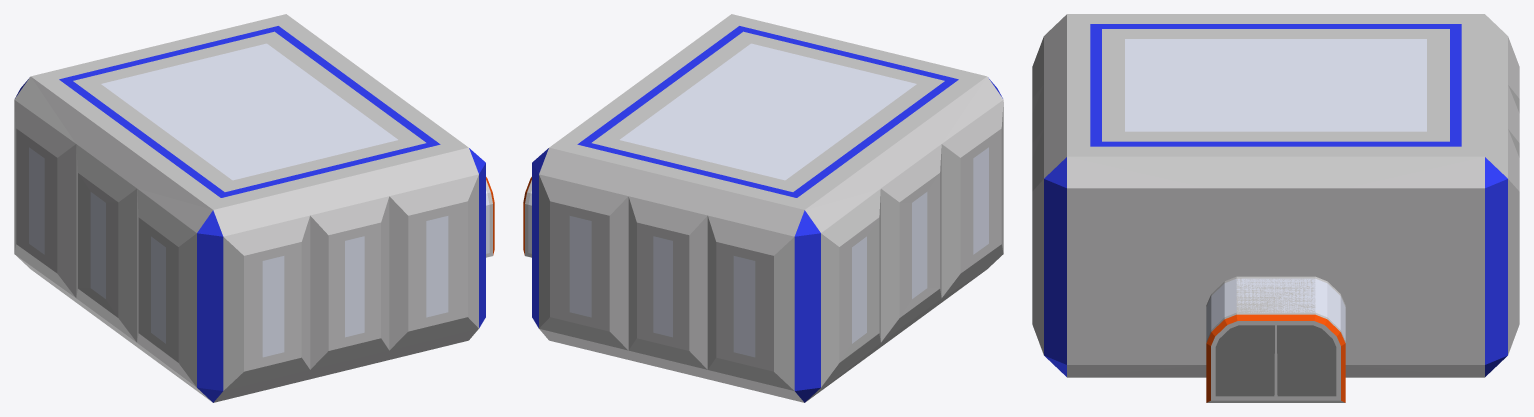
File: Residential_A.fbx
3 renders of one model, left to right at view 1: azimuth 30°, elevation 25°; view 2: azimuth 150°, elevation 25°; view 3: azimuth 270°, elevation 25°, orthographic. The views are drawn at different scales.
Visible parts, largest first — view 1: Cube, Cube.001; view 2: Cube, Cube.001; view 3: Cube, Cube.001.
Part boxes in pixels (box(x1,y1,x2,y2)): Cube: box(14, 14, 494, 402); Cube.001: box(29, 43, 489, 357); Cube: box(523, 14, 1003, 402); Cube.001: box(528, 43, 988, 357); Cube: box(1032, 14, 1519, 402); Cube.001: box(1125, 39, 1426, 340).
Bounding box in the file's own units: 1 × 0.5 × 1.
